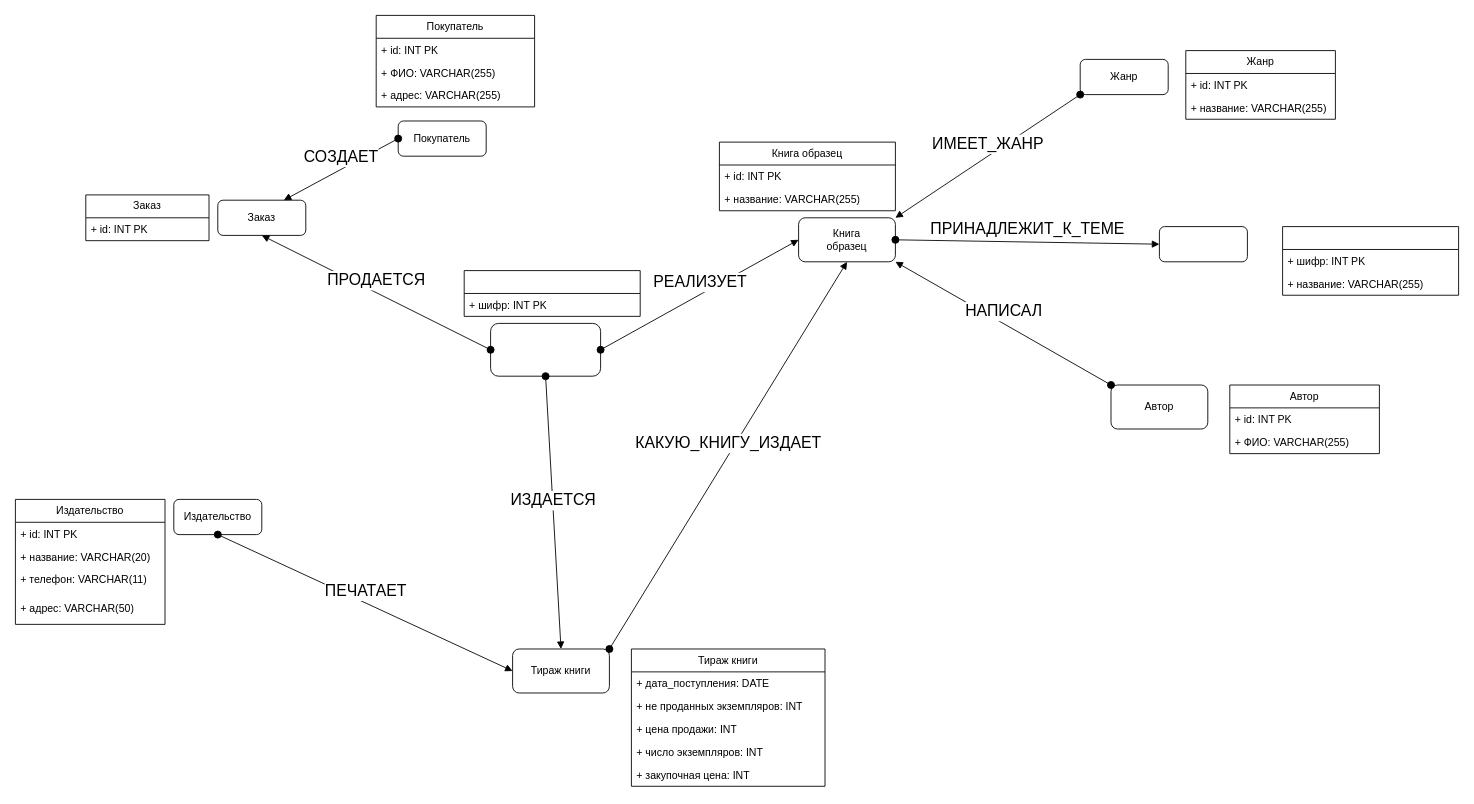
Image size: 1474x804. Some labels were removed from this diagram. The shapes that lost their labels are listed below. From the top down, each one's box as (x1, y1, x2, y2) in pixels, then its label:
(1159, 226, 1247, 262): Тема
(1282, 226, 1459, 295): Книга
(463, 270, 640, 316): Книга_экземпляр
(490, 323, 601, 376): Книга экземпляр
